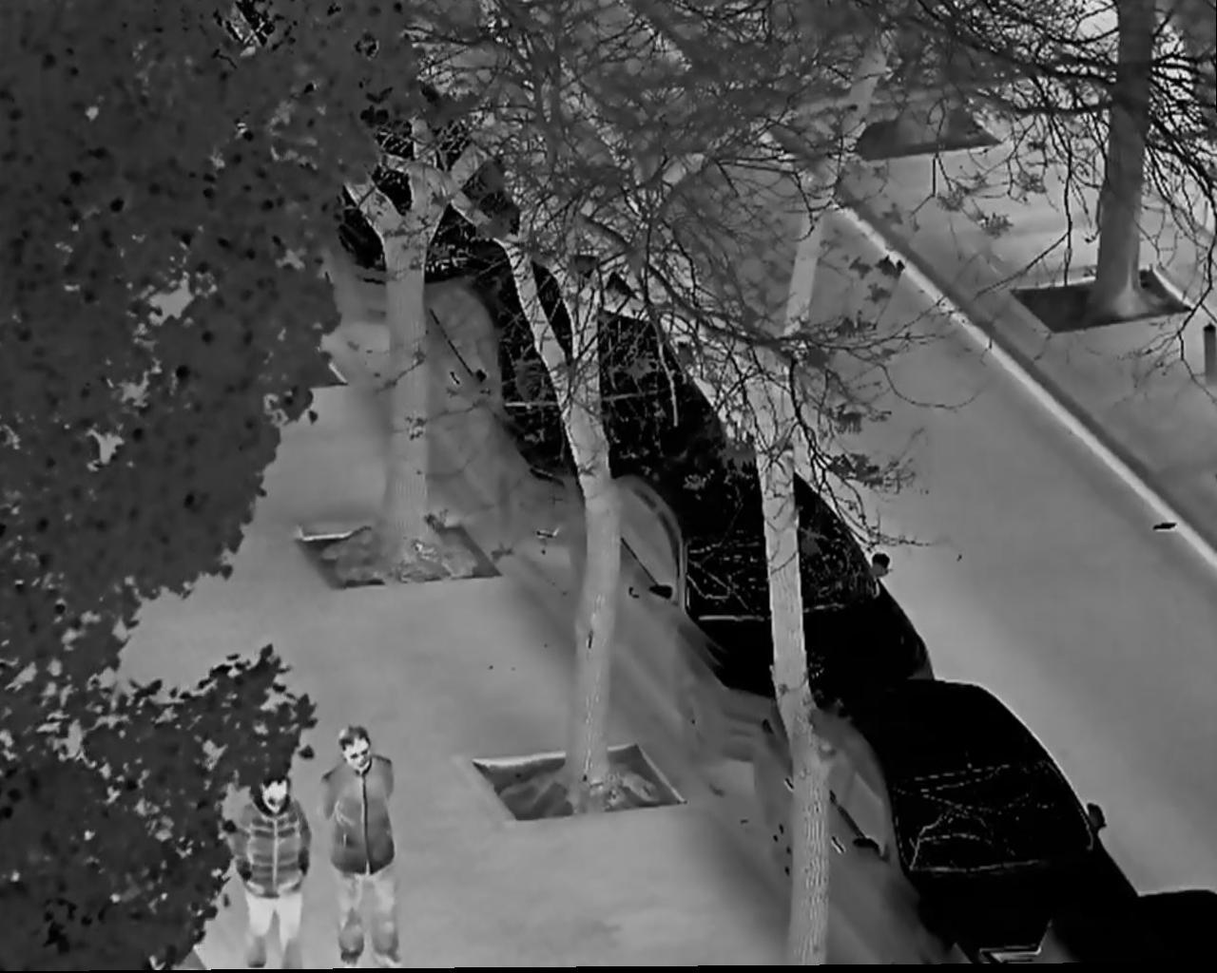person: (316, 721, 406, 973), (228, 764, 315, 967)
